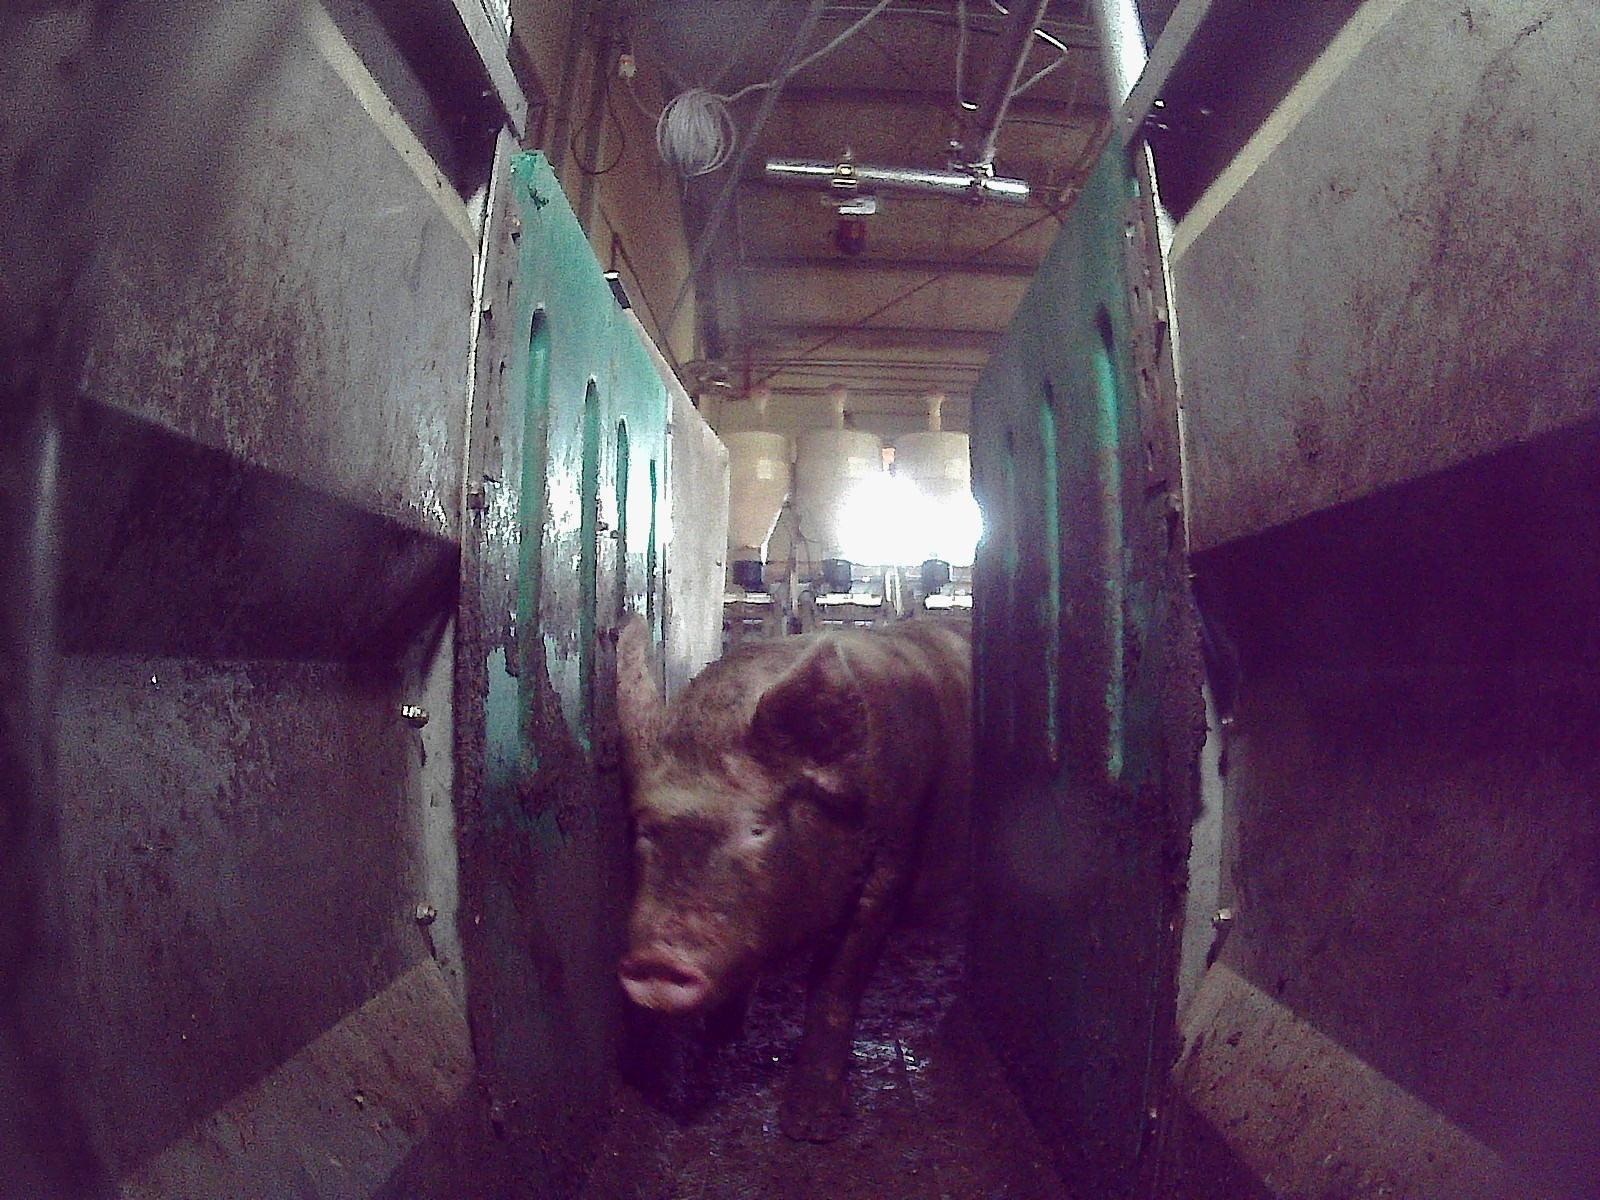Face: (618, 713, 797, 1013)
